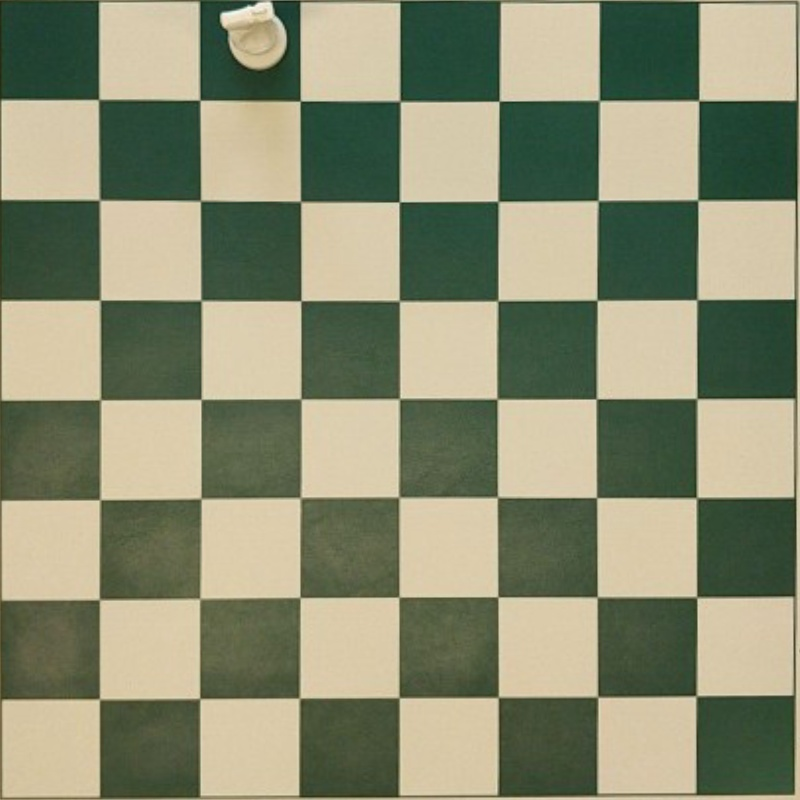white-knight: (220, 0, 287, 71)
